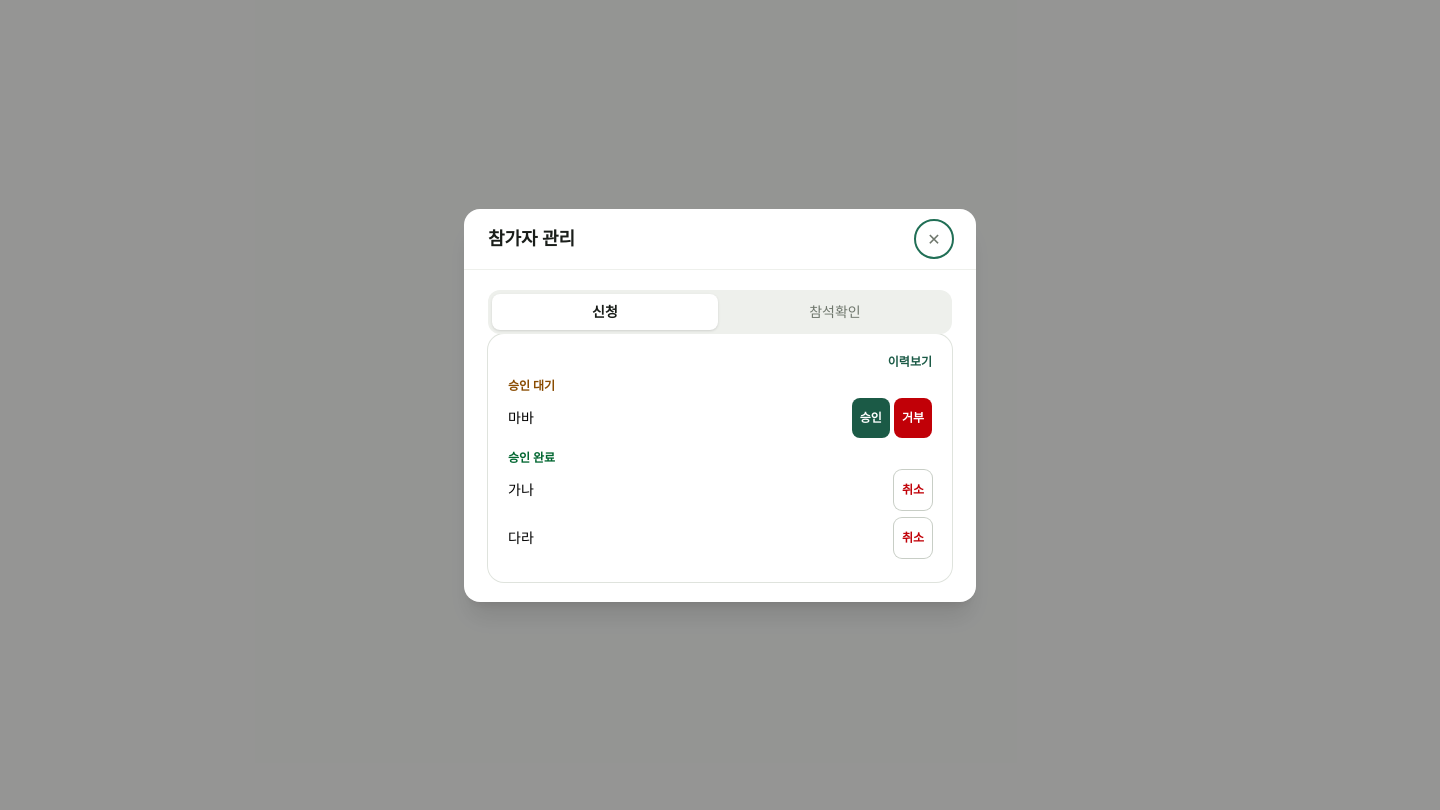
Test case: AttendeeManageDialog › 참석 체크 일괄 저장 — 일부 실패하면 실패한 인원만 알려준다
The image size is (1440, 810).
Step 1. Click the tab "참석확인" → point(835, 312), box [722,294,948,330]
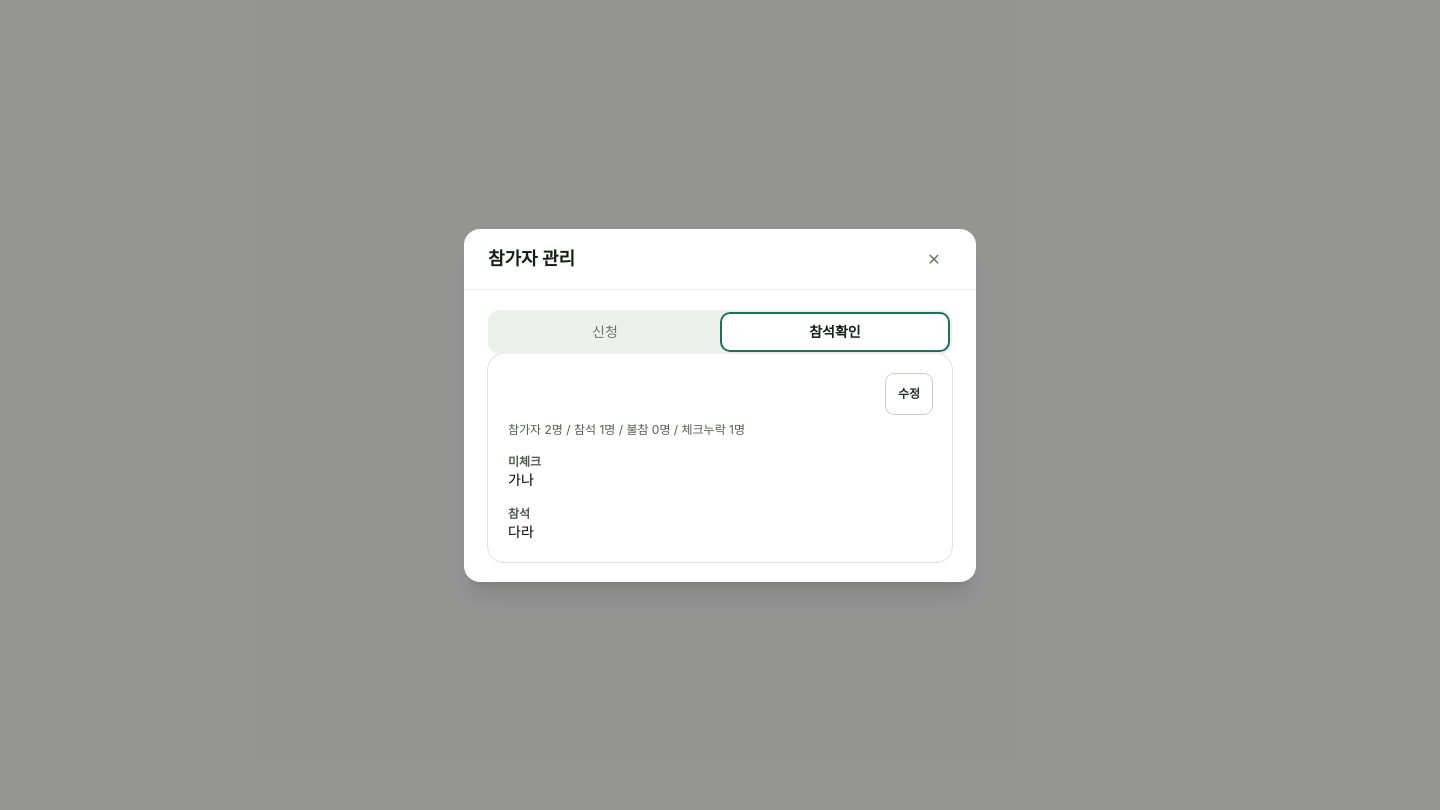
Step 2. Click the button "수정" → point(909, 394), box [886,374,932,414]
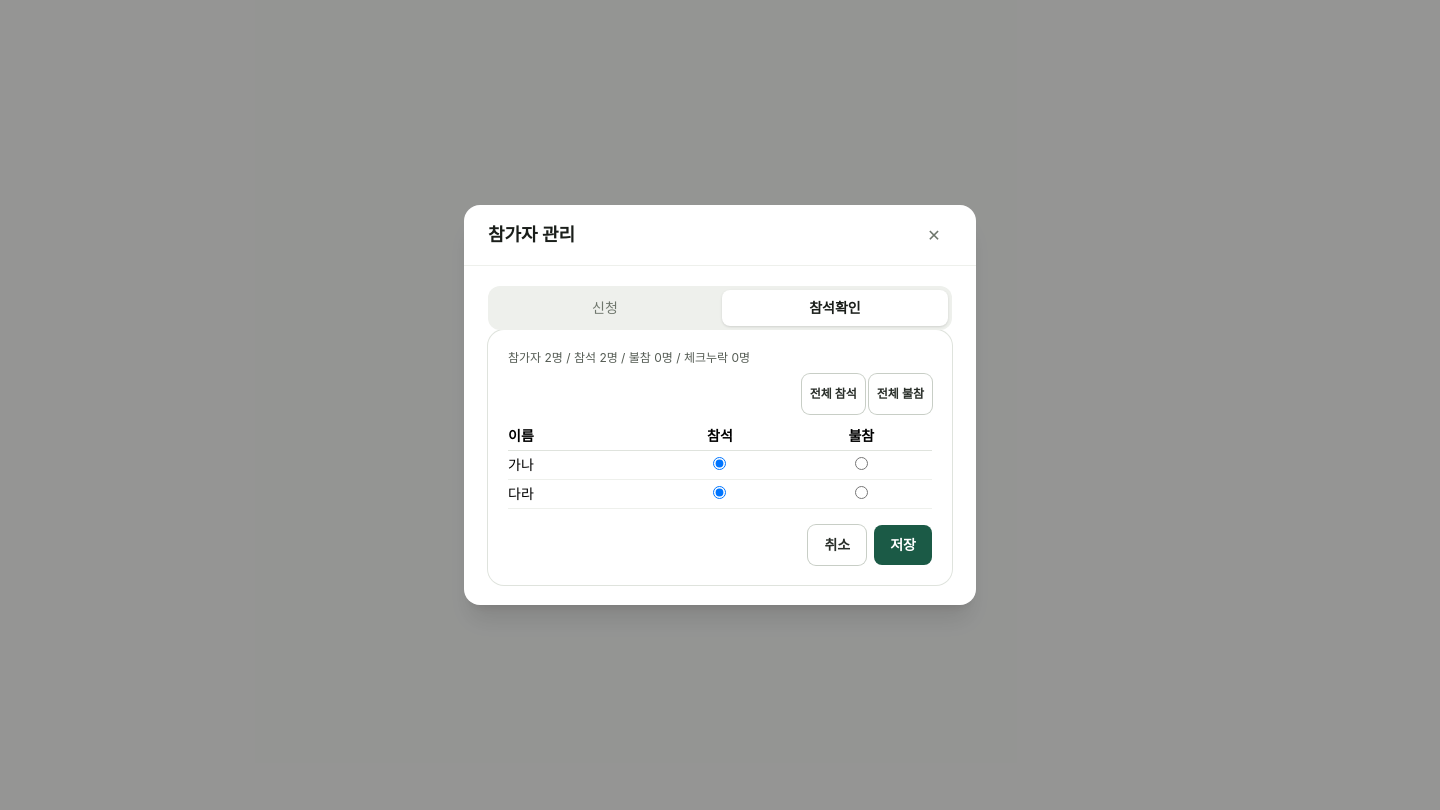
Step 3. Click the button "전체 불참" → point(900, 394), box [869,374,932,414]
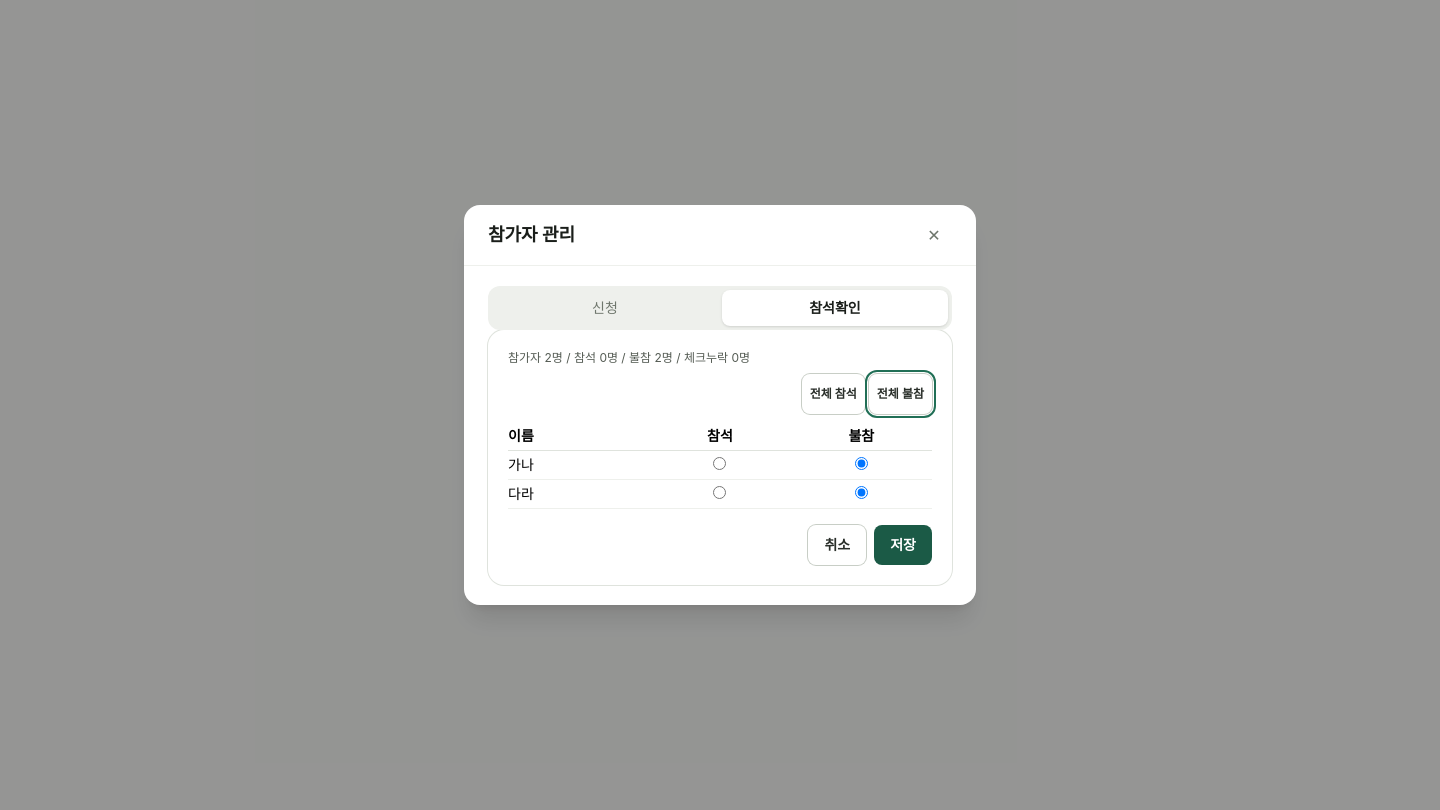
Check: the text "참가자 2명 / 참석 0명 / 불참 2명 / 체크누락 0명" is shown, box [508,350,750,365]
Step 4. Click the button "저장" → point(903, 545), box [874,525,932,565]
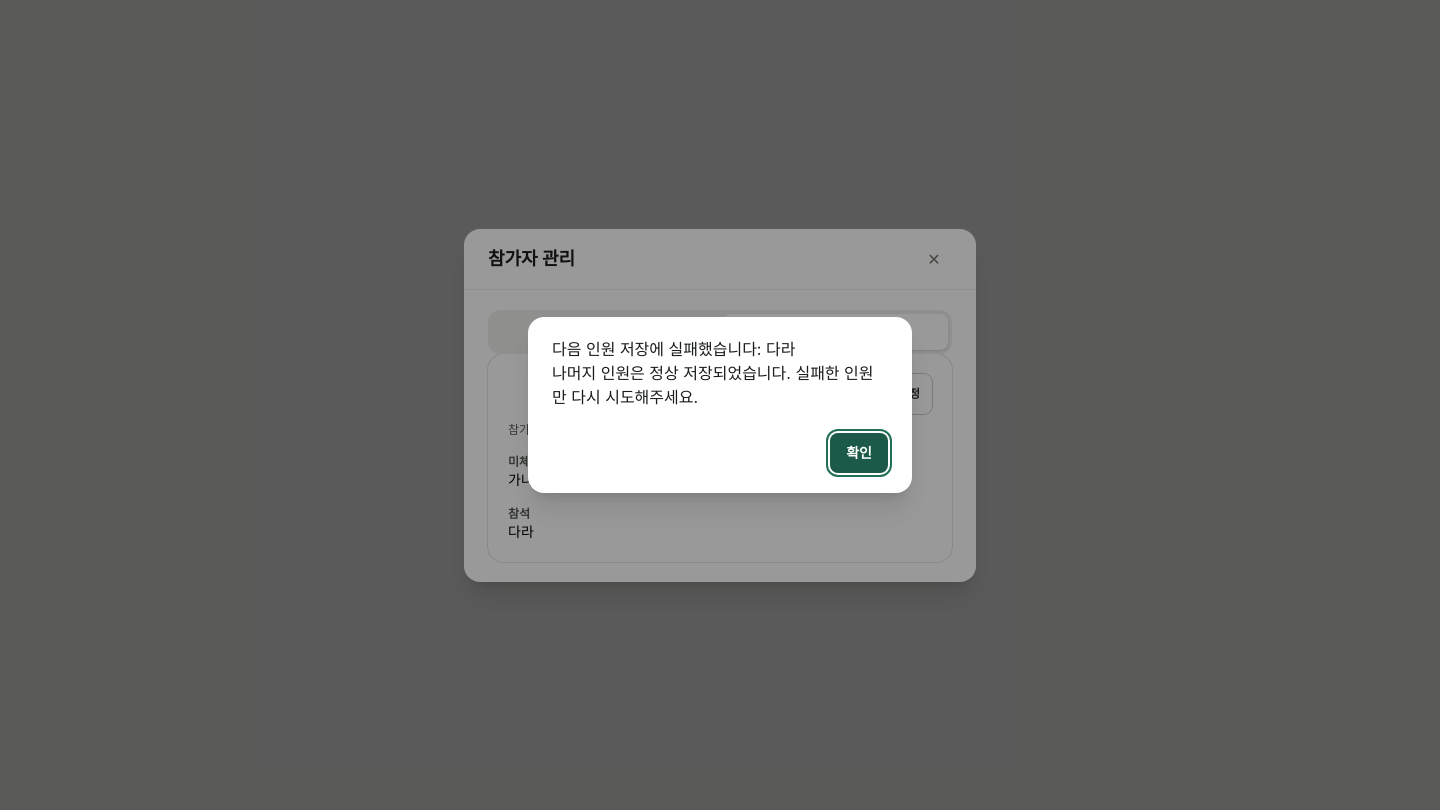
Check: the button "확인" is shown, box [830,433,888,473]
